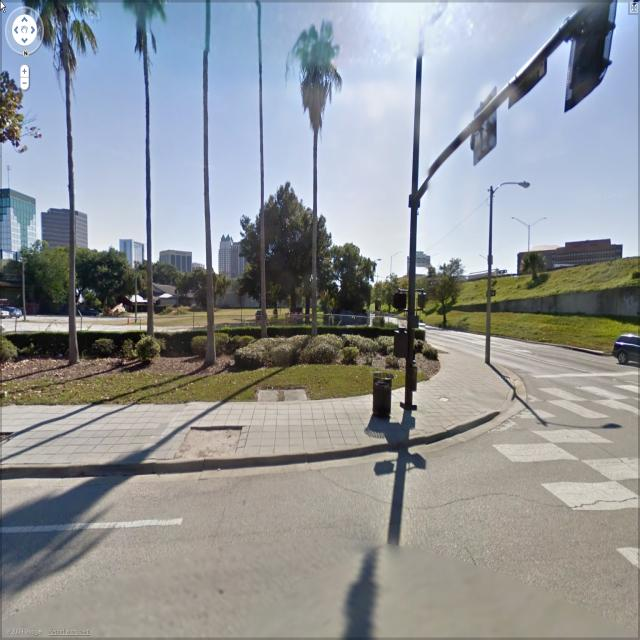b_1: (512, 220, 622, 269), (0, 178, 54, 248), (42, 200, 100, 259), (124, 234, 152, 276), (152, 252, 204, 272), (409, 248, 437, 281)
b_2: (212, 223, 272, 299)
